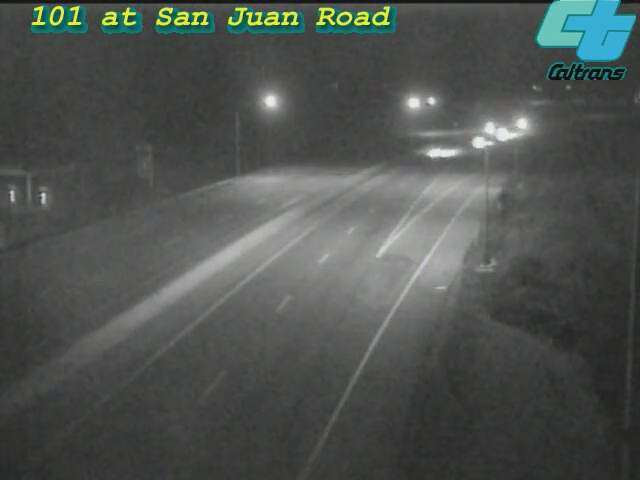vehicle: (457, 103, 507, 153), (491, 98, 541, 148), (478, 110, 528, 160), (455, 119, 505, 169), (413, 127, 463, 177)
